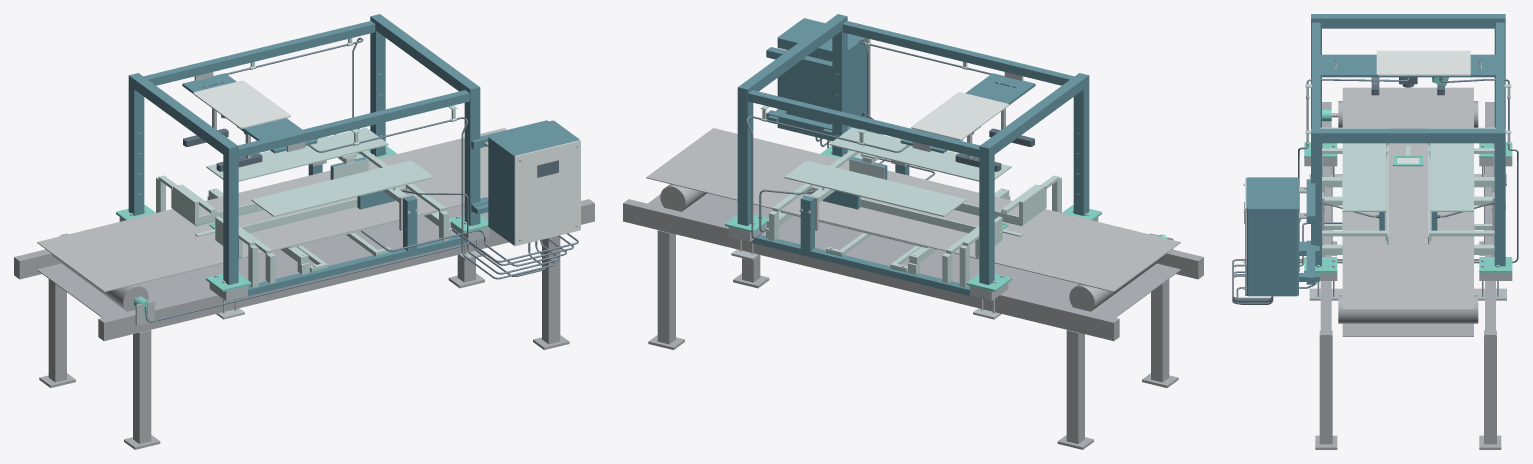
Rendered from module_with_host.glb.
3 renders of one model, left to right at view 1: azimuth 30°, elevation 25°; view 2: azimuth 150°, elevation 25°; view 3: azimuth 270°, elevation 25°, orthographic. The views are drawn at different scales.
Parts seen in each view (by area): view 1: host_carrying_belt, host_return_belt, host_side_rail_-1, control_front_panel, control_enclosure_shell, outer_lane_pod_guard_-1, overhead_side_rail_-1, overhead_side_rail_1, outer_lane_pod_guard_1, optical_top_service_cover, portal_column_-620_1, lower_side_rail_-1 (+18 smaller); view 2: host_carrying_belt, host_side_rail_1, host_return_belt, control_enclosure_shell, outer_lane_pod_guard_1, overhead_side_rail_1, overhead_side_rail_-1, outer_lane_pod_guard_-1, optical_top_service_cover, lower_side_rail_1, portal_crossbar_-620, portal_column_-620_-1 (+17 smaller); view 3: host_carrying_belt, control_enclosure_shell, outer_lane_pod_guard_-1, portal_crossbar_620, outer_lane_pod_guard_1, portal_crossbar_-620, optical_top_service_cover, optical_slotted_carrier, host_roller_1050, host_return_belt, portal_column_620_1, host_side_rail_1 (+18 smaller).
Boxes of the visible parts, x1,y1,x2,y2 form: host_carrying_belt: (37,128,506,292); host_return_belt: (37,204,488,317); host_side_rail_-1: (98,199,594,341); control_front_panel: (514,140,580,246); control_enclosure_shell: (488,120,579,245); outer_lane_pod_guard_-1: (251,160,433,216); overhead_side_rail_-1: (238,90,469,157); overhead_side_rail_1: (143,21,375,85); outer_lane_pod_guard_1: (206,127,388,181); optical_top_service_cover: (193,80,290,128); portal_column_-620_1: (128,79,144,215); lower_side_rail_-1: (233,235,473,299); host_carrying_belt: (646,128,1180,292); host_side_rail_1: (623,199,1119,341); host_return_belt: (648,193,1180,317); control_enclosure_shell: (777,18,869,140); outer_lane_pod_guard_1: (784,160,966,216); overhead_side_rail_1: (748,90,979,157); overhead_side_rail_-1: (842,21,1074,85); outer_lane_pod_guard_-1: (829,127,1011,181); optical_top_service_cover: (911,92,1008,140); lower_side_rail_1: (744,234,984,299); portal_crossbar_-620: (979,73,1089,158); portal_column_-620_-1: (1073,80,1089,215); host_carrying_belt: (1342,87,1473,310); control_enclosure_shell: (1246,177,1298,296); outer_lane_pod_guard_-1: (1342,143,1386,211); portal_crossbar_620: (1311,128,1505,143); outer_lane_pod_guard_1: (1430,143,1473,211); portal_crossbar_-620: (1311,14,1505,28); optical_top_service_cover: (1376,50,1470,75); optical_slotted_carrier: (1320,54,1495,77); host_roller_1050: (1338,295,1478,323); host_return_belt: (1342,323,1473,336); portal_column_620_1: (1494,137,1505,266); host_side_rail_1: (1485,102,1495,352).
Size of the model in its own units: 2.52 by 1.38 by 1.31.
